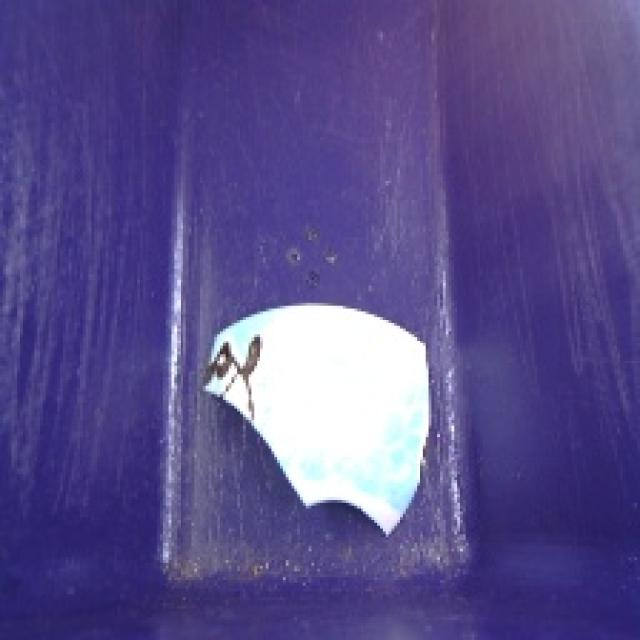china: (195, 295, 440, 538)
